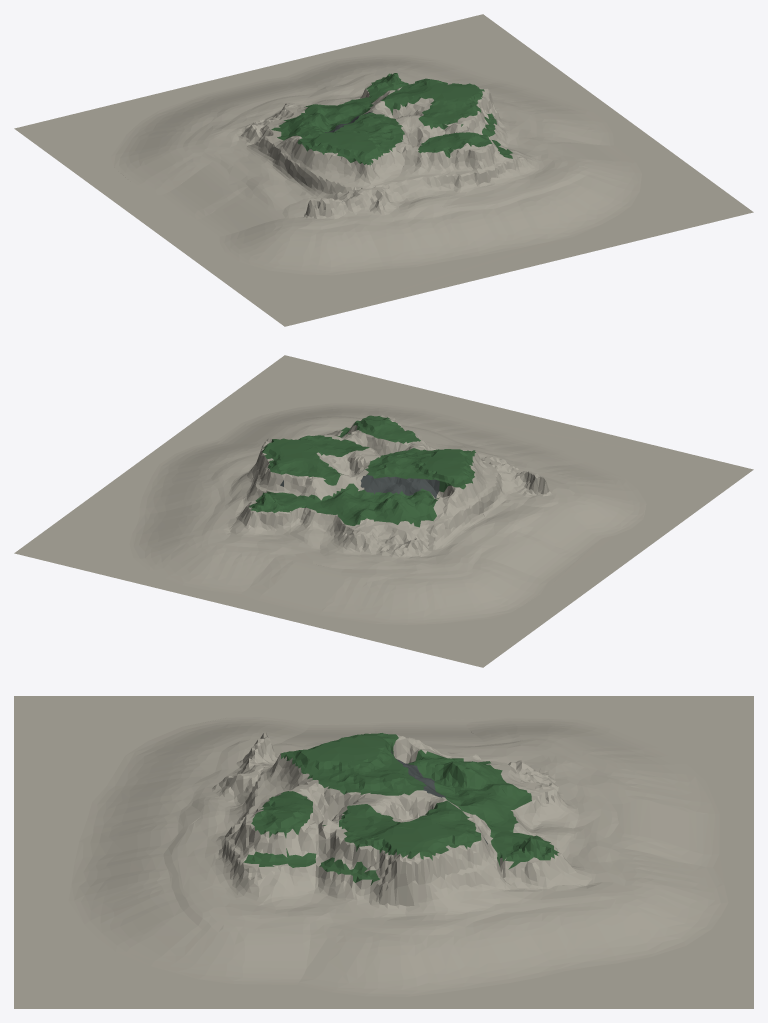
The model's file is ilan.gltf.
3 views of the same model, one above another, from view 1: azimuth 30°, elevation 25°; view 2: azimuth 150°, elevation 25°; view 3: azimuth 270°, elevation 25° (orthographic). The views are drawn at different scales.
Parts seen in each view (by area): view 1: ilan-col; view 2: ilan-col; view 3: ilan-col.
Part boxes in pixels (x1,y1,x2,y2): ilan-col: (14, 14, 753, 326); ilan-col: (14, 355, 753, 667); ilan-col: (14, 696, 753, 1008).
Bounding box in the file's own units: 4 × 0.4228 × 4.
